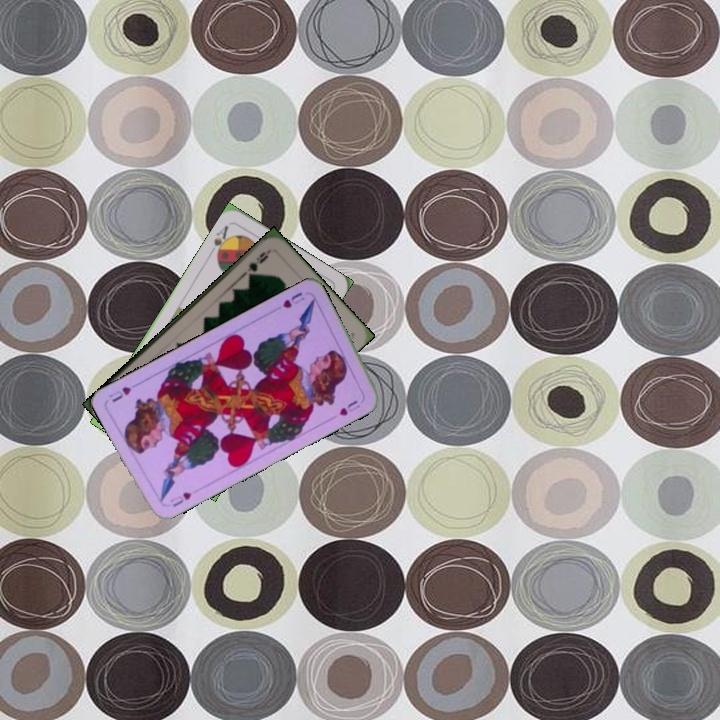G9: (240, 246, 273, 281)
HU: (279, 288, 307, 311), (168, 488, 194, 510)
SA: (209, 221, 234, 260)
